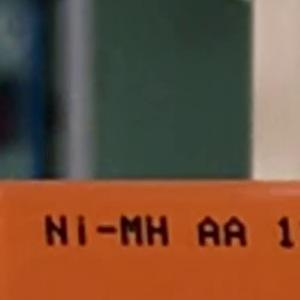NI-MH: (35, 206, 178, 255)
